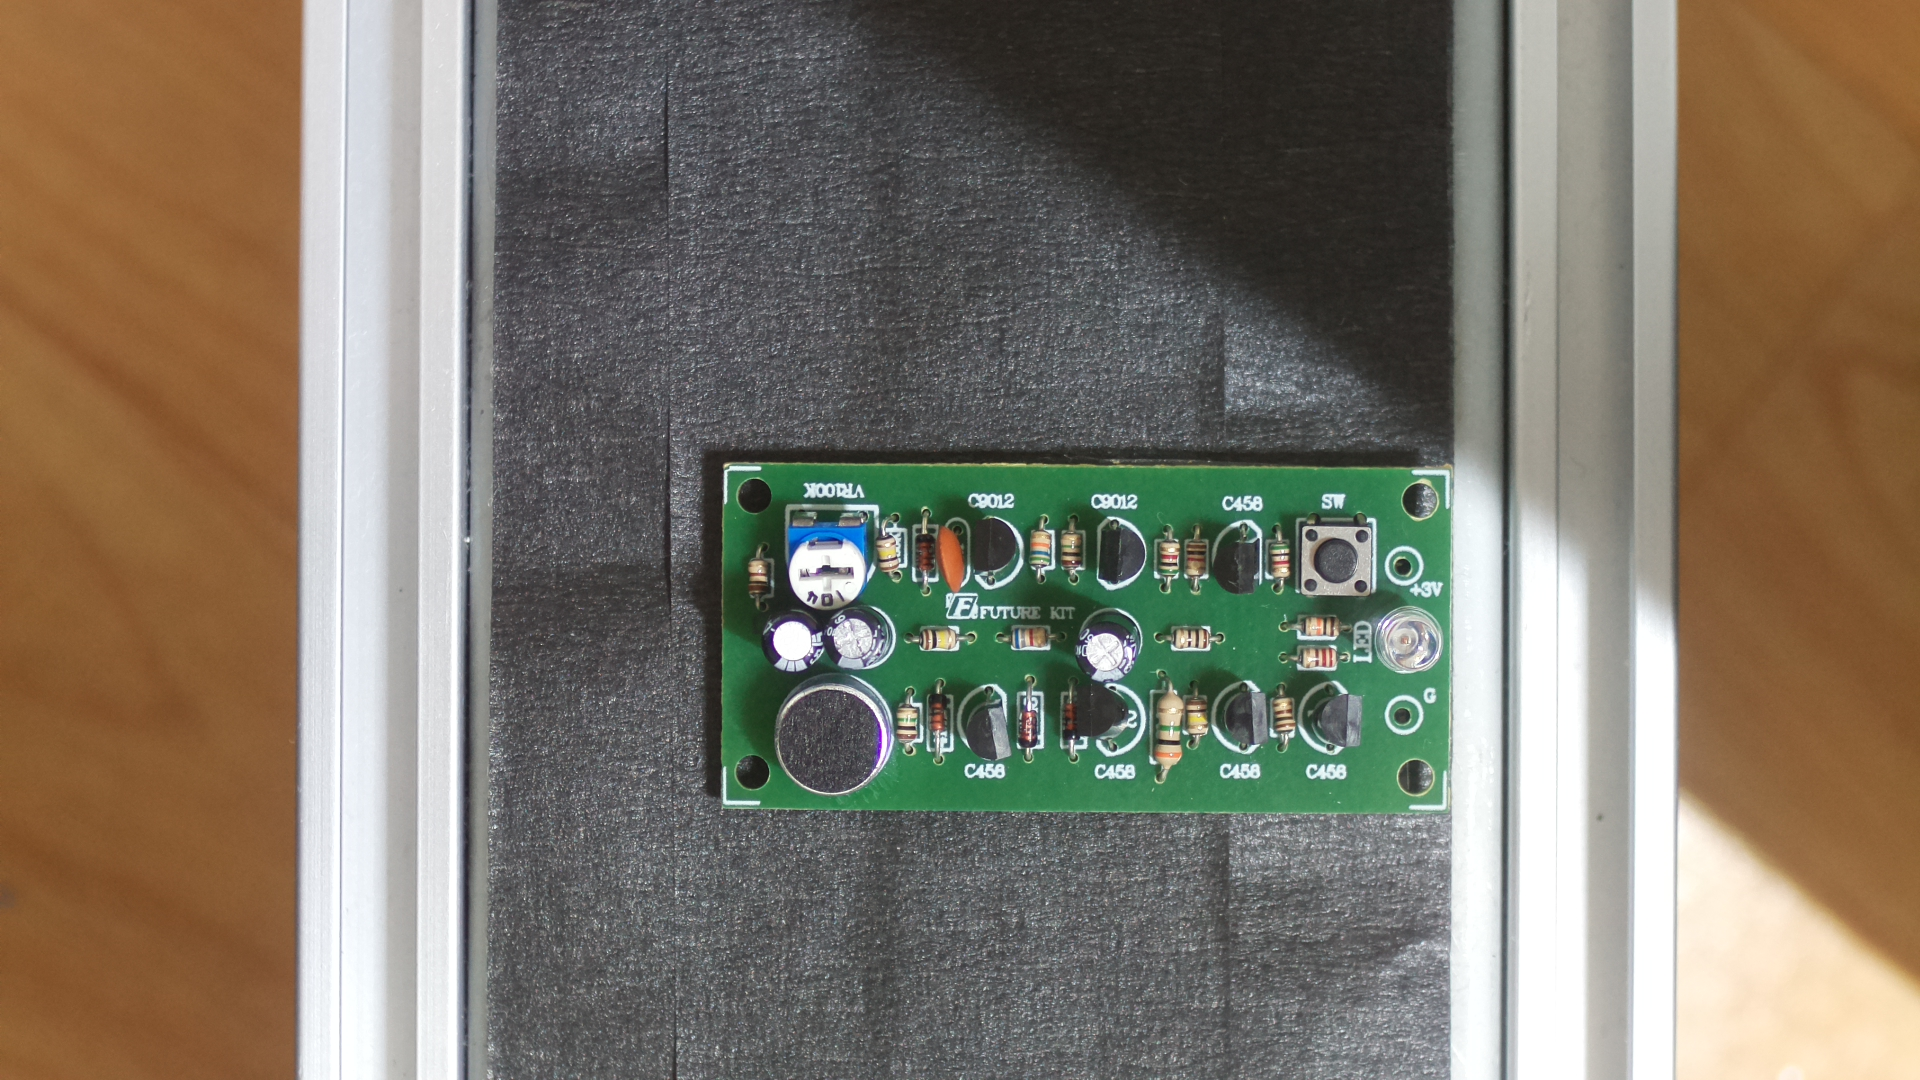A_Normal: (713, 448, 1460, 810)
